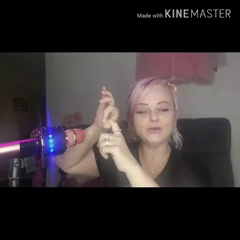Q: (90, 86, 136, 174)
